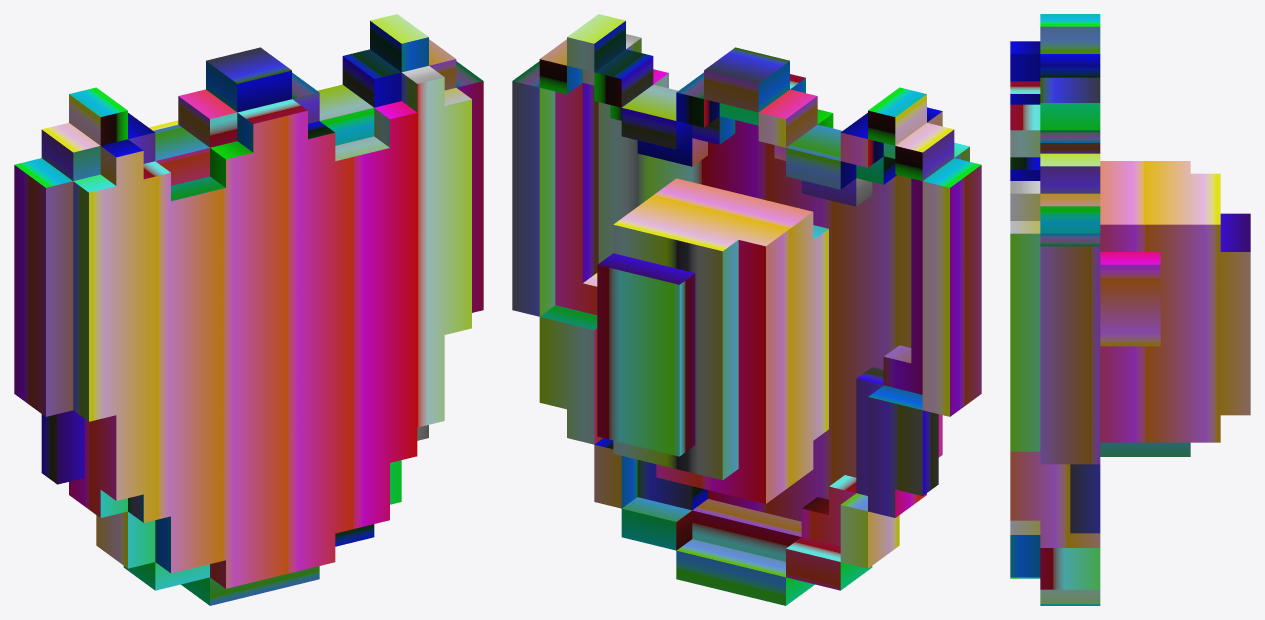
Rendered from cogiendo_mediano.fbx.
The picture shows the model from 3 angles, left to right: view 1: azimuth 30°, elevation 25°; view 2: azimuth 150°, elevation 25°; view 3: azimuth 270°, elevation 25°; orthographic projection. The views are drawn at different scales.
Parts seen in each view (by area): view 1: cogiendo_mediano.001; view 2: cogiendo_mediano.001; view 3: cogiendo_mediano.001.
Boxes of the visible parts, box(x1,y1,x2,y2) form: cogiendo_mediano.001: box(14, 14, 483, 605); cogiendo_mediano.001: box(512, 14, 981, 605); cogiendo_mediano.001: box(1010, 14, 1250, 605).
Bounding box in the file's own units: 160 × 180 × 80.
